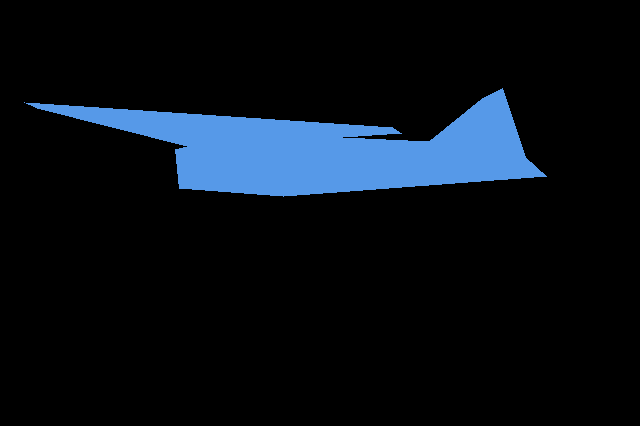Airplane: (24, 88, 546, 196)
